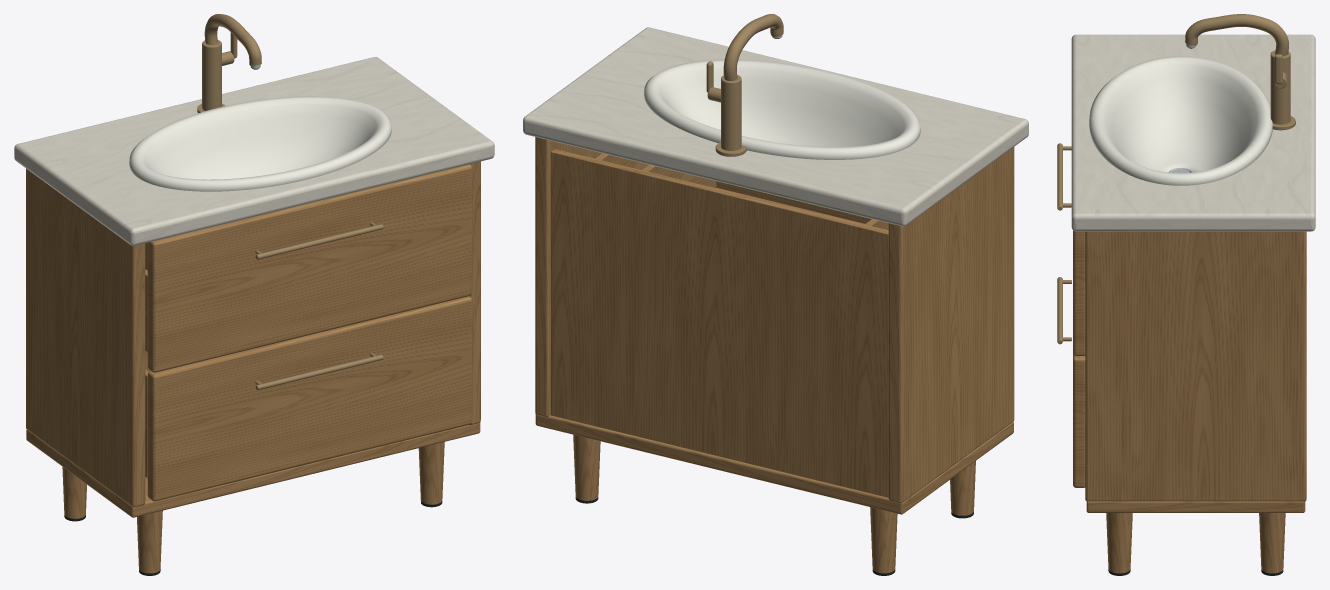
The model's file is vanity.glb.
3 renders of one model, left to right at view 1: azimuth 30°, elevation 25°; view 2: azimuth 150°, elevation 25°; view 3: azimuth 270°, elevation 25°, orthographic. The views are drawn at different scales.
Visible parts, largest first — view 1: Drawer 1 | front, Drawer 0 | front, Cabinet | oak side, Counter | honed limestone composite, Basin | seamless concave ceramic, Cabinet | bottom, Cabinet | oak side.001, Leg | solid oak.002, Leg | solid oak, Faucet | upright body, Faucet | curved spout, Leg | solid oak.001 (+2 smaller); view 2: Cabinet | rear, Cabinet | oak side, Counter | honed limestone composite, Basin | seamless concave ceramic, Cabinet | bottom, Cabinet | oak side.001, Leg | solid oak.001, Leg | solid oak.003, Faucet | upright body, Faucet | curved spout, Leg | solid oak, Drawer 1 | front; view 3: Cabinet | oak side.001, Counter | honed limestone composite, Basin | seamless concave ceramic, Cabinet | bottom, Drawer 0 | front, Faucet | curved spout, Drawer 1 | front, Leg | solid oak.002, Leg | solid oak.003, Faucet | upright body, Drawer 1 | grip, Drawer 0 | grip.
Part boxes in pixels (left/top/right/bottom): Drawer 1 | front: left=147, top=164, right=472, bottom=372; Drawer 0 | front: left=147, top=296, right=472, bottom=501; Cabinet | oak side: left=26, top=168, right=145, bottom=506; Counter | honed limestone composite: left=14, top=57, right=494, bottom=245; Basin | seamless concave ceramic: left=129, top=96, right=391, bottom=191; Cabinet | bottom: left=26, top=422, right=480, bottom=517; Cabinet | oak side.001: left=469, top=161, right=480, bottom=425; Leg | solid oak.002: left=418, top=442, right=444, bottom=504; Leg | solid oak: left=137, top=510, right=162, bottom=573; Faucet | upright body: left=202, top=40, right=221, bottom=110; Faucet | curved spout: left=204, top=14, right=261, bottom=65; Leg | solid oak.001: left=62, top=467, right=86, bottom=518; Cabinet | rear: left=550, top=149, right=888, bottom=497; Cabinet | oak side: left=888, top=147, right=1014, bottom=503; Counter | honed limestone composite: left=523, top=27, right=1028, bottom=226; Basin | seamless concave ceramic: left=644, top=59, right=920, bottom=159; Cabinet | bottom: left=535, top=414, right=1013, bottom=514; Cabinet | oak side.001: left=535, top=137, right=601, bottom=417; Leg | solid oak.001: left=870, top=507, right=897, bottom=573; Leg | solid oak.003: left=573, top=434, right=600, bottom=500; Faucet | upright body: left=721, top=75, right=741, bottom=150; Faucet | curved spout: left=723, top=14, right=783, bottom=80; Leg | solid oak: left=950, top=461, right=975, bottom=515; Drawer 1 | front: left=716, top=181, right=871, bottom=223; Cabinet | oak side.001: left=1085, top=231, right=1306, bottom=501; Counter | honed limestone composite: left=1071, top=34, right=1315, bottom=231; Basin | seamless concave ceramic: left=1089, top=56, right=1272, bottom=185; Cabinet | bottom: left=1086, top=501, right=1305, bottom=512; Drawer 0 | front: left=1073, top=354, right=1085, bottom=487; Faucet | curved spout: left=1185, top=14, right=1288, bottom=55; Drawer 1 | front: left=1073, top=230, right=1085, bottom=355; Leg | solid oak.002: left=1106, top=513, right=1132, bottom=573; Leg | solid oak.003: left=1259, top=513, right=1285, bottom=573; Faucet | upright body: left=1270, top=50, right=1290, bottom=124; Drawer 1 | grip: left=1057, top=143, right=1062, bottom=210; Drawer 0 | grip: left=1057, top=277, right=1062, bottom=344.
Bounding box in the file's own units: 0.936 × 1.17 × 0.561.
7 materials, 3 textured.
